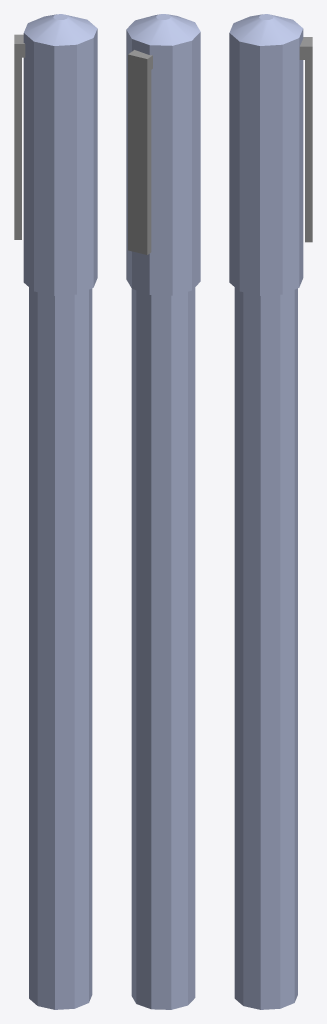
3 views of the same model, side by side, from view 1: azimuth 90°, elevation 25°; view 2: azimuth 150°, elevation 25°; view 3: azimuth 270°, elevation 25° (orthographic).
Parts seen in each view (by area): view 1: shaft, cap, clip_blade; view 2: shaft, cap, clip_blade; view 3: shaft, cap, clip_blade.
Boxes of the visible parts, bbox=[...] form: shaft: bbox=[29, 287, 92, 1009]; cap: bbox=[23, 14, 97, 295]; clip_blade: bbox=[14, 34, 25, 239]; shaft: bbox=[131, 287, 195, 1009]; cap: bbox=[126, 14, 200, 295]; clip_blade: bbox=[128, 50, 152, 254]; shaft: bbox=[234, 287, 297, 1009]; cap: bbox=[229, 14, 303, 295]; clip_blade: bbox=[299, 37, 312, 242].
Bounding box in the file's own units: 0.00985 × 0.145 × 0.0111.
